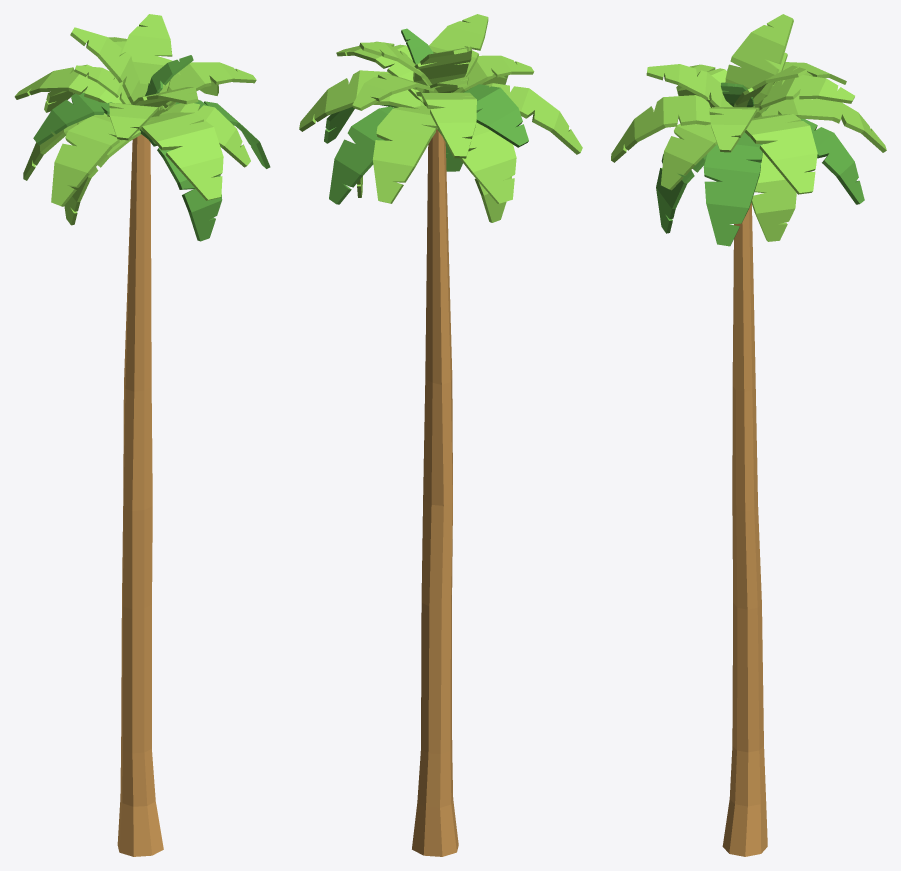
Rendered from palmtree.glb.
3 views of the same model, side by side, from view 1: azimuth 30°, elevation 25°; view 2: azimuth 150°, elevation 25°; view 3: azimuth 270°, elevation 25° (orthographic). The views are drawn at different scales.
Parts seen in each view (by area): view 1: palmtree; view 2: palmtree; view 3: palmtree.
Boxes of the visible parts, x1=… form: palmtree: x1=14, y1=14, x2=270, y2=856; palmtree: x1=299, y1=14, x2=582, y2=856; palmtree: x1=611, y1=14, x2=886, y2=856.
Size of the model in its own units: 1.95 by 6.48 by 2.
